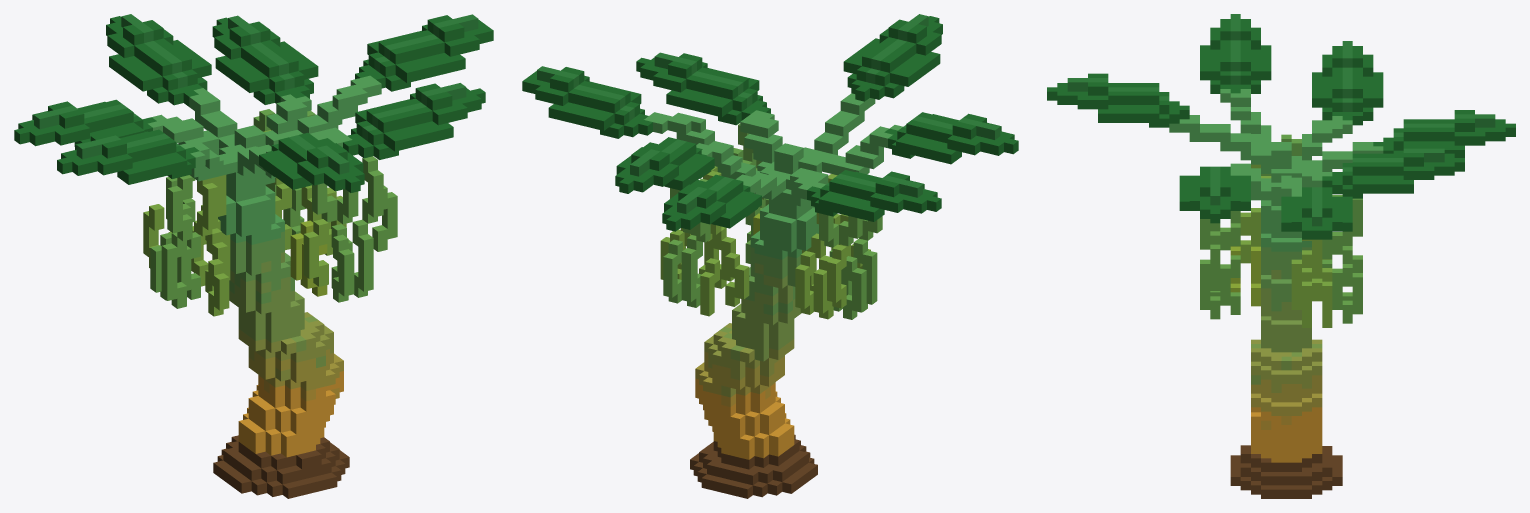
The model's file is 2_0 bana.obj.
3 views of the same model, side by side, from view 1: azimuth 30°, elevation 25°; view 2: azimuth 150°, elevation 25°; view 3: azimuth 270°, elevation 25° (orthographic). The views are drawn at different scales.
Bounding box in the file's own units: 4.8 × 4 × 4.6.
1 material, 1 textured.
